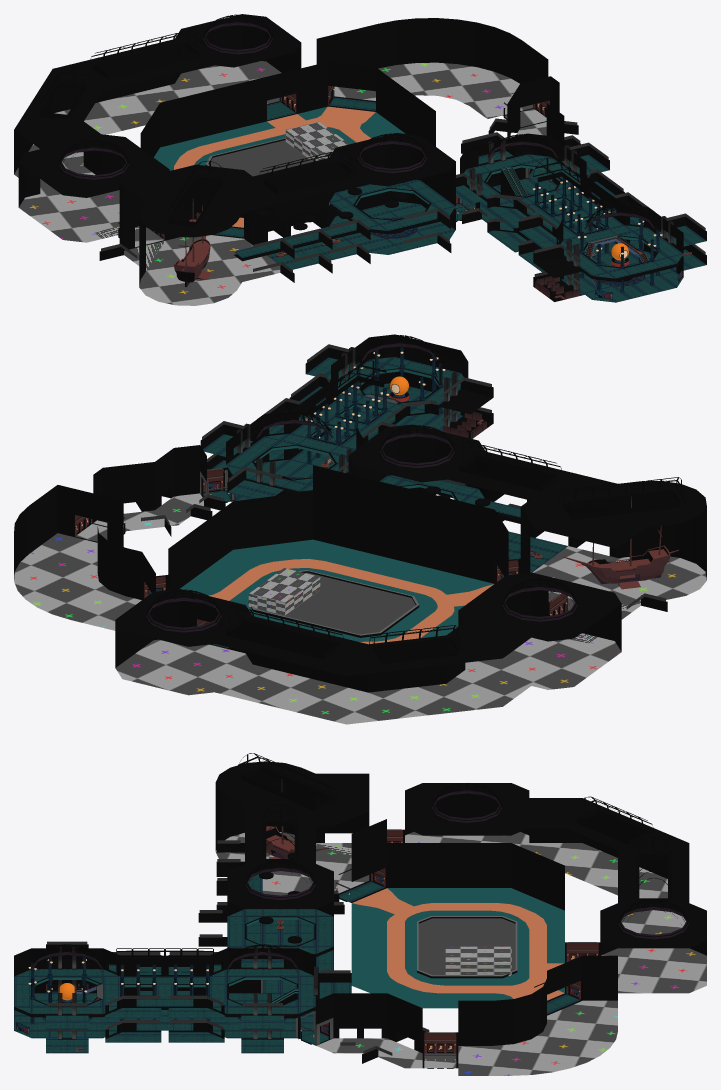
Rendered from env_mall.glb.
3 views of the same model, one above another, from view 1: azimuth 30°, elevation 25°; view 2: azimuth 150°, elevation 25°; view 3: azimuth 270°, elevation 25° (orthographic). The views are drawn at different scales.
Parts seen in each view (by area): view 1: MallCeilingMedieval, MallCeilingPirate, MallWallPark, MallWallPirate, MallFloorPirate, MallFloorMedieval, MallWallFossil, MallFloorPark, MallFloorSecEntrance, MallFloorEntrance, MallWallMedieval, MallWallEntrance (+9 smaller); view 2: MallWallPark, MallFloorMedieval, MallFloorPark, MallCeilingMedieval, MallCeilingPirate, MallWallMedieval, MallWallPirate, MallWallFossil, MallFloorSecEntrance, MallFloorFossil, MallWallEntrance, MallWallAquarium (+8 smaller); view 3: MallFloorPark, MallCeilingMedieval, MallCeilingPirate, MallFloorEntrance, MallWallPark, MallFloorMedieval, MallFloorSecEntrance, MallFloorFossil, MallWallFossil, MallWallEntrance, MallWallAquarium, MallWallPirate (+8 smaller).
Boxes of the visible parts, box(x1,y1,x2,y2) form: MallCeilingMedieval: box(14, 14, 301, 197); MallCeilingPirate: box(101, 133, 455, 272); MallWallPark: box(140, 62, 435, 157); MallWallPirate: box(99, 144, 455, 287); MallFloorPirate: box(117, 201, 455, 305); MallFloorMedieval: box(14, 61, 296, 242); MallWallFossil: box(316, 18, 548, 105); MallFloorPark: box(154, 106, 405, 227); MallFloorSecEntrance: box(464, 154, 683, 284); MallFloorEntrance: box(455, 150, 706, 302); MallWallMedieval: box(14, 25, 301, 207); MallWallEntrance: box(454, 133, 706, 299); MallWallPark: box(168, 465, 508, 589); MallFloorMedieval: box(115, 633, 621, 724); MallFloorPark: box(180, 539, 493, 644); MallCeilingMedieval: box(115, 572, 621, 675); MallCeilingPirate: box(349, 424, 706, 609); MallWallMedieval: box(115, 590, 621, 692); MallWallPirate: box(348, 436, 706, 615); MallWallFossil: box(14, 485, 168, 599); MallFloorSecEntrance: box(226, 357, 463, 493); MallFloorFossil: box(14, 533, 141, 630); MallWallEntrance: box(226, 334, 493, 486); MallWallAquarium: box(74, 445, 235, 536); MallFloorPark: box(351, 888, 564, 1008); MallCeilingMedieval: box(405, 783, 706, 948); MallCeilingPirate: box(199, 753, 401, 937); MallFloorEntrance: box(14, 959, 351, 1053); MallWallPark: box(351, 819, 564, 910); MallFloorMedieval: box(405, 832, 706, 993); MallFloorSecEntrance: box(14, 964, 315, 1018); MallFloorFossil: box(458, 993, 617, 1075); MallWallFossil: box(458, 955, 617, 1045); MallWallEntrance: box(14, 946, 318, 1051); MallWallAquarium: box(296, 993, 458, 1068); MallWallPirate: box(198, 771, 404, 946).
Size of what is drawn, in the model's own units: 231 by 39.46 by 273.
1 material, 1 textured.
